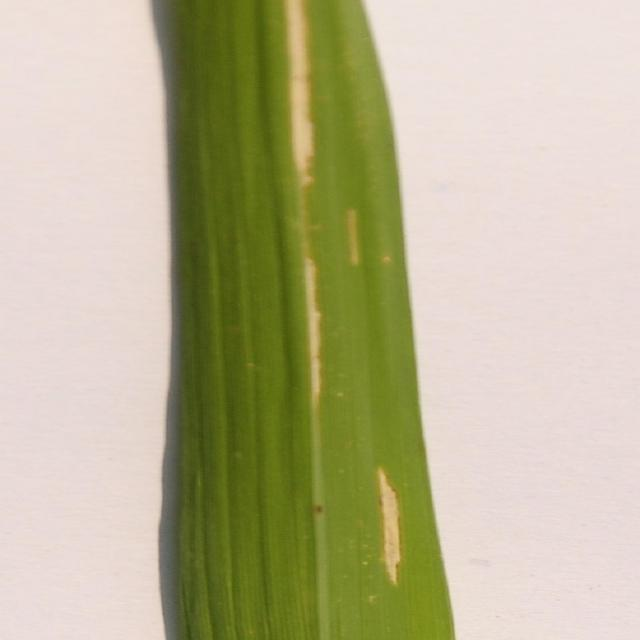leaf blight: (272, 1, 377, 401), (365, 459, 424, 614)
